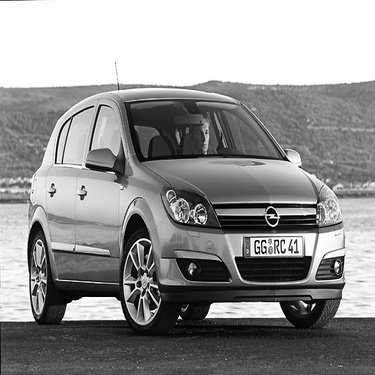car: (21, 53, 352, 337)
